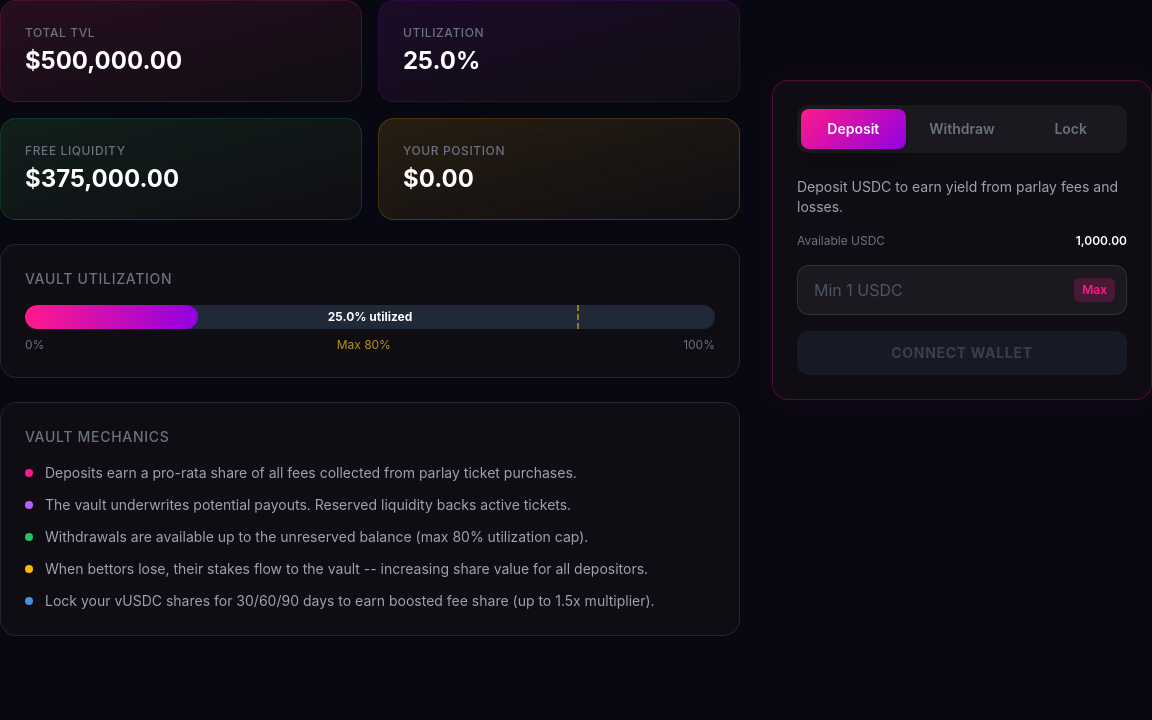
Test case: VaultDashboard › switches to withdraw tab
What coordinates should you click on to do the following:
click the button "Withdraw"
I would click on:
 (962, 129)
Its box is x1=910 y1=109 x2=1014 y2=149.
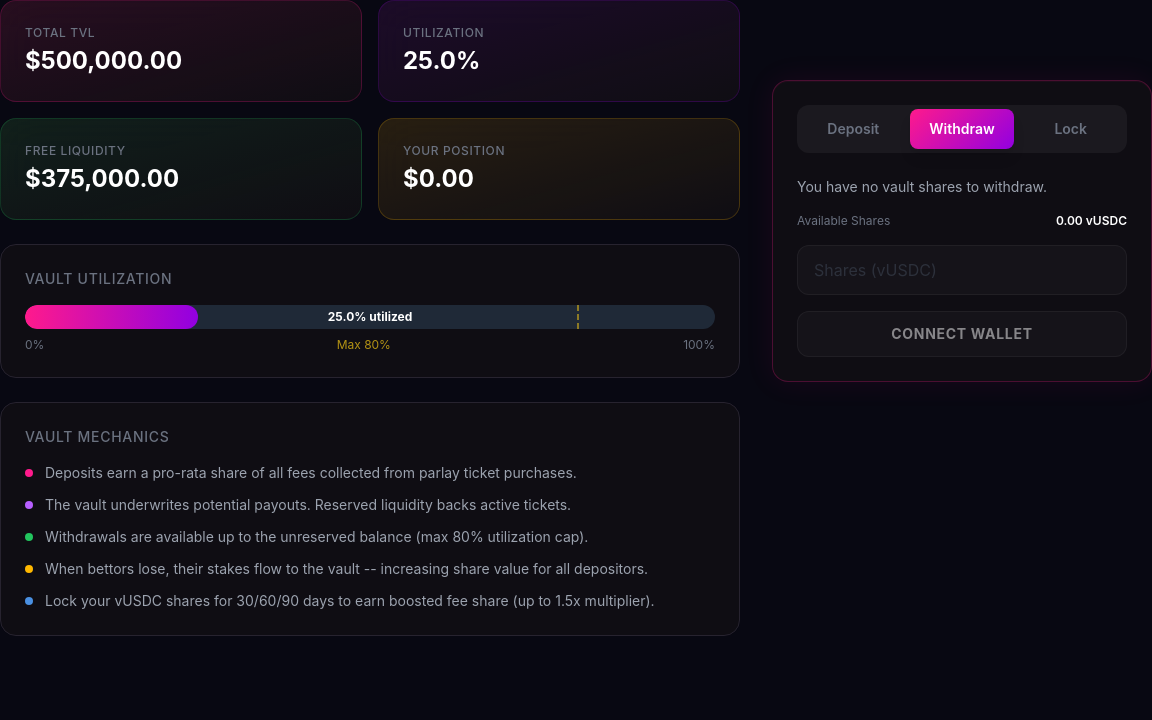
Result: the text "You have no vault shares to withdraw." is shown at x1=797 y1=178 x2=1047 y2=195
